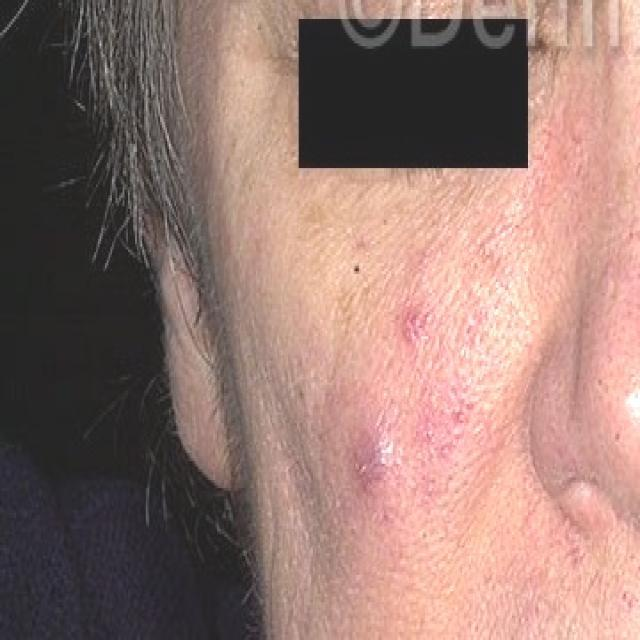Rosacea: (346, 172, 550, 516)
